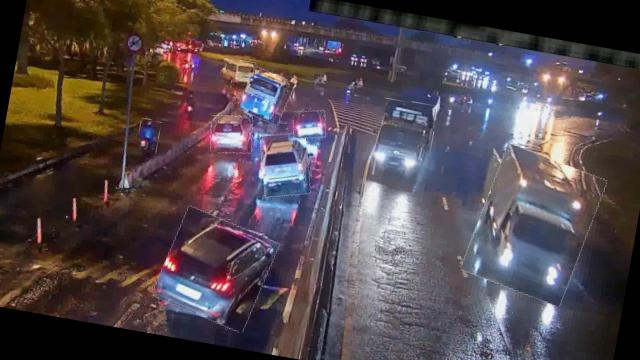Bike: (136, 118, 162, 155)
Bus: (238, 66, 294, 124), (219, 57, 256, 84)
Car: (154, 207, 278, 332), (254, 127, 316, 202), (206, 111, 255, 157), (290, 108, 328, 142)
Truck: (463, 144, 604, 306), (372, 97, 438, 183)
